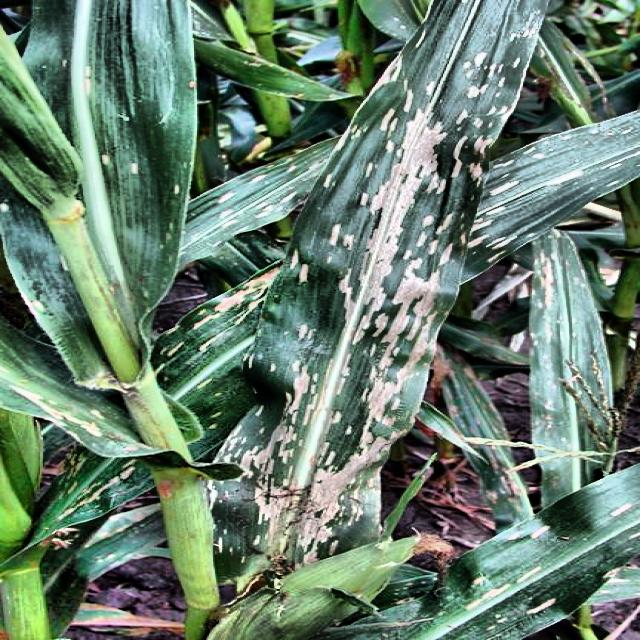gray_spot: (246, 0, 548, 557)
